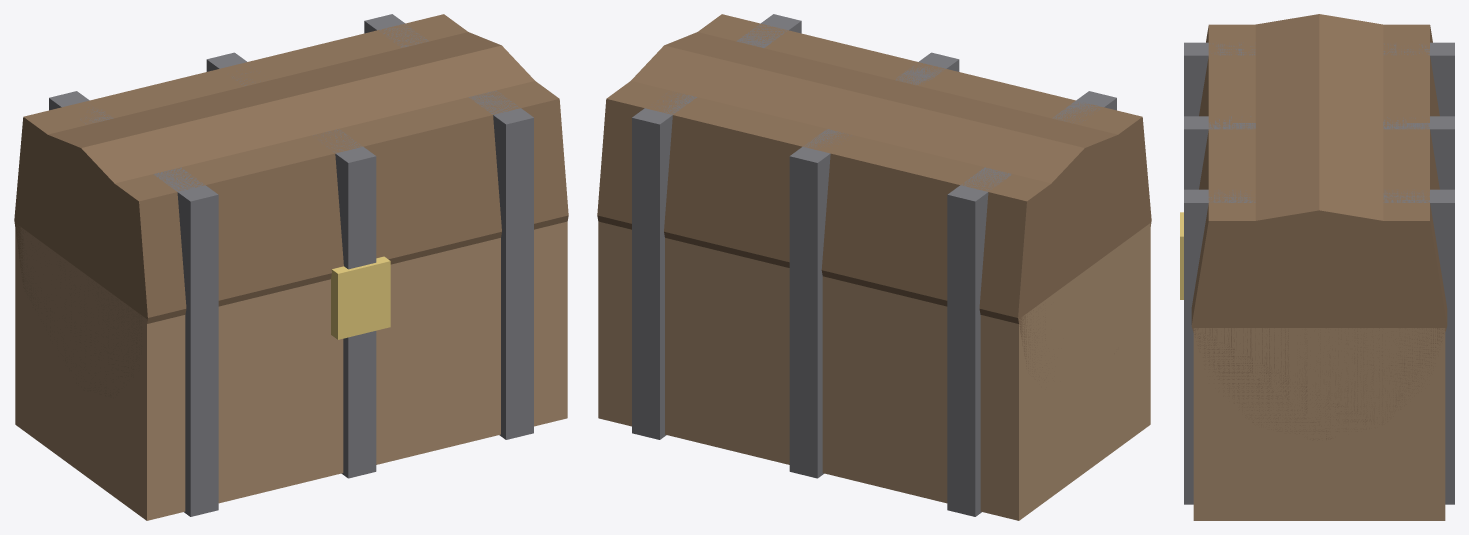
Rendered from chest_large.glb.
The picture shows the model from 3 angles, left to right: view 1: azimuth 30°, elevation 25°; view 2: azimuth 150°, elevation 25°; view 3: azimuth 270°, elevation 25°; orthographic projection. The views are drawn at different scales.
Visible parts, largest first — view 1: chest_large; view 2: chest_large; view 3: chest_large.
Part boxes in pixels (x1,y1,x2,y2): chest_large: (14,14,568,520); chest_large: (597,14,1151,520); chest_large: (1180,14,1454,520).
Size of the model in its own units: 1.2 by 0.89 by 0.71.
